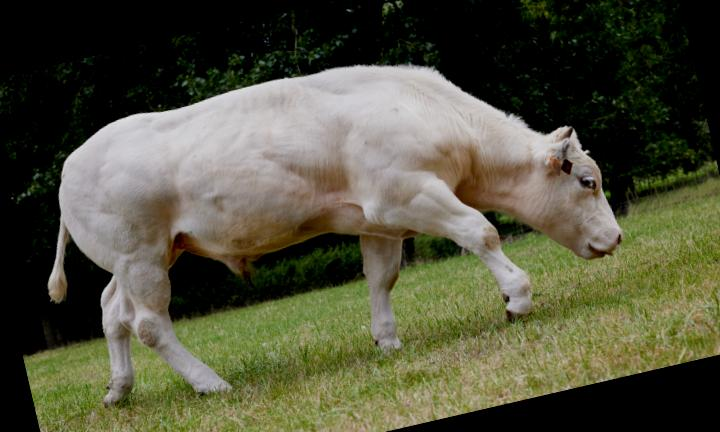Charolais: (48, 66, 622, 406)
